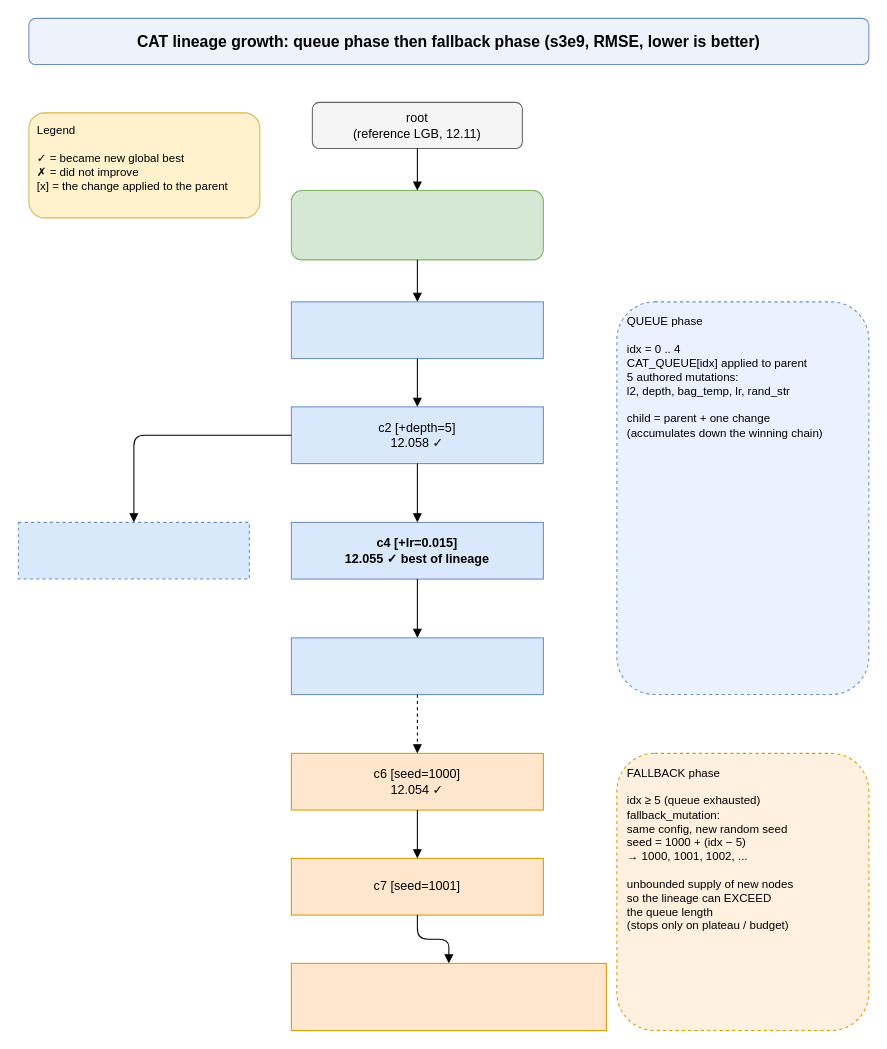
Image size: 887x1049. Some labels were removed from this diagram. The shapes that lost their labels are listed below. From the top down, each one's centre as x and y in pixels, then its label:
the point at 416,225: CAT seed / head CatBoost depth6, l2=6 RMSE 12.075
the point at 416,330: c1 [l2=9] 12.062 ✓
the point at 133,550: c3 [+bag_temp] 12.060 ✗ (sibling dead-end)
the point at 416,666: c5 [+rand_str] 12.056 ✗
the point at 448,996: c8 [seed=1002] → ... until plateau / node budget
